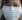with_mask: (1, 2, 22, 20)
